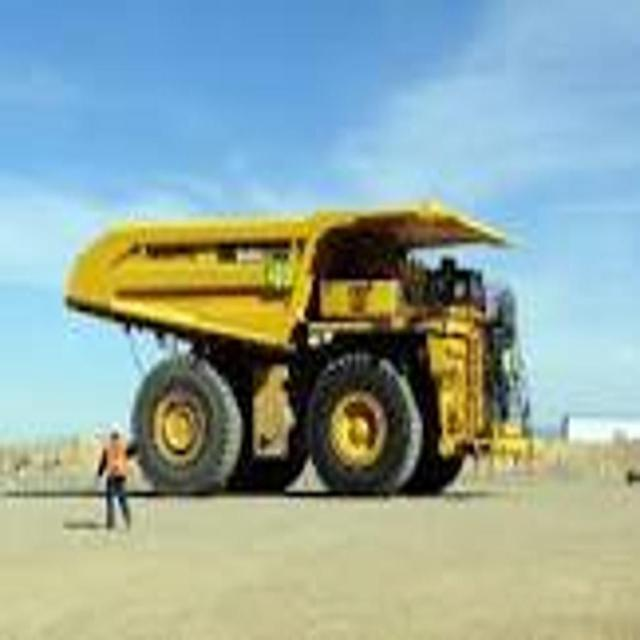dump_truck: (50, 183, 529, 500)
